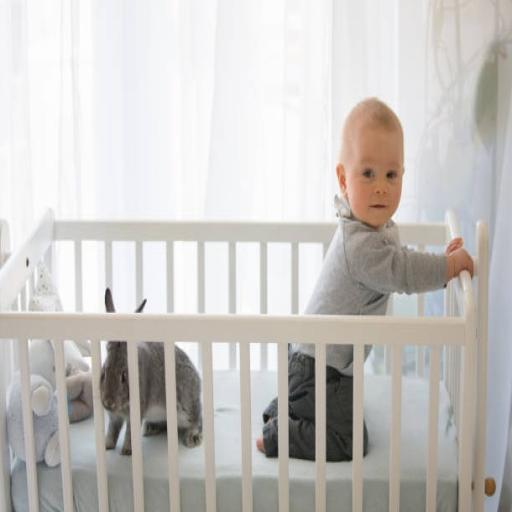baby: (305, 99, 473, 315)
crib: (0, 211, 488, 511)
